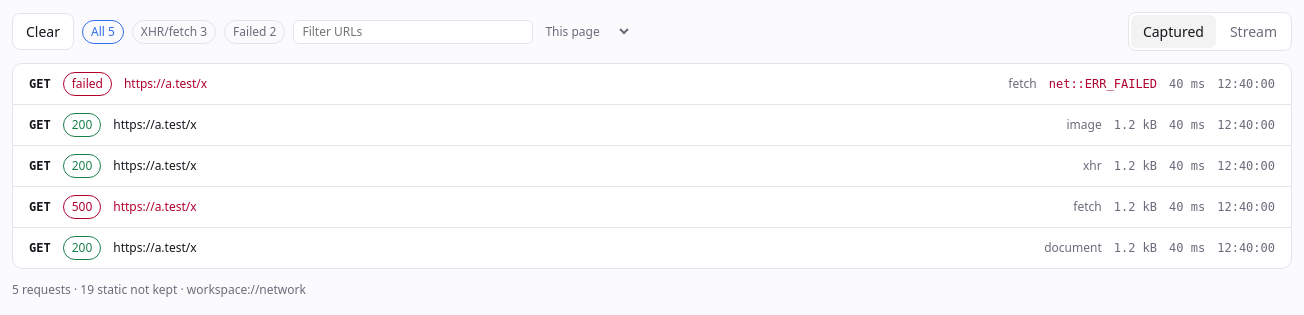
the footers read as the boards do
The image size is (1304, 315).
Check: the text "5 requests · 19 static not kept · workspace://network" is shown, box [12, 281, 306, 298]
Click the button "Failed 2" at (255, 32), box [224, 20, 285, 44]
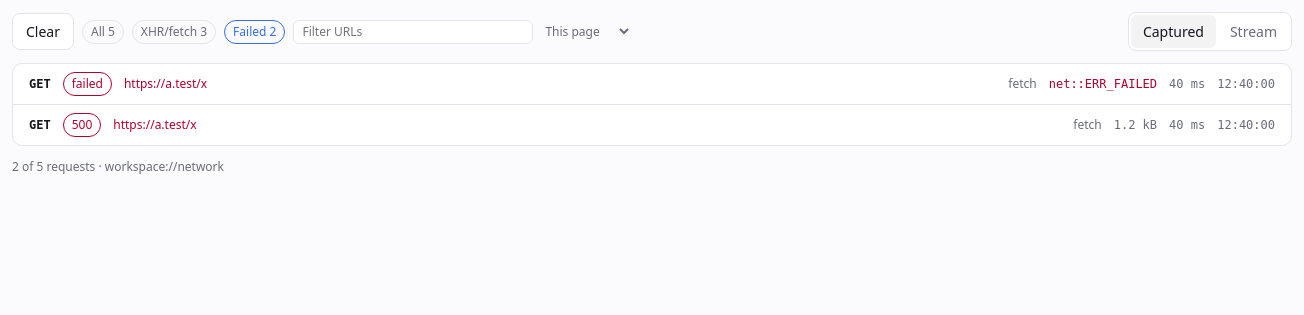
Check: the text "2 of 5 requests · workspace://network" is shown, box [12, 158, 224, 175]
